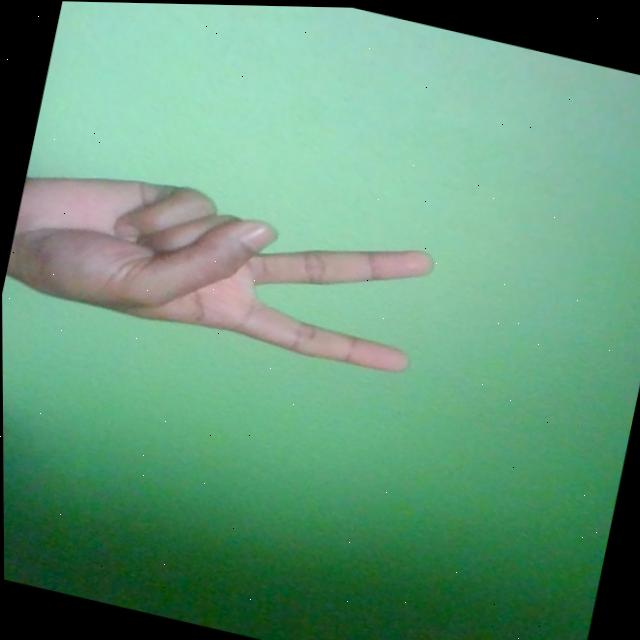Peace: (1, 150, 441, 383)
